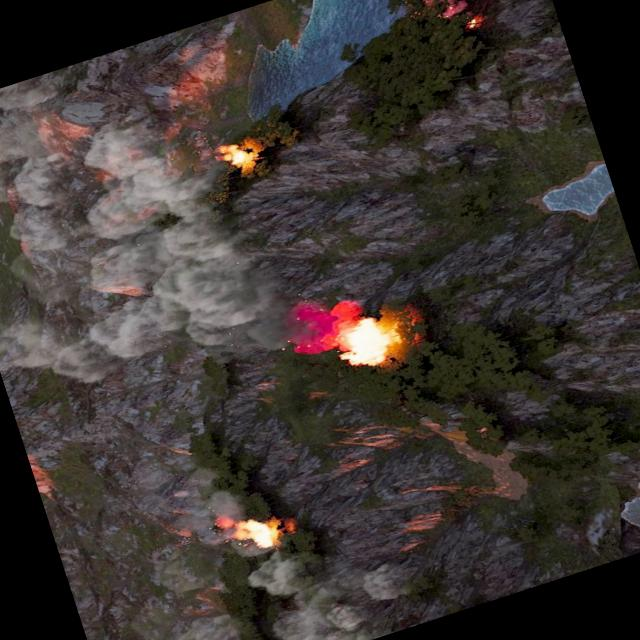fire: (328, 308, 407, 376), (227, 506, 284, 556), (217, 139, 258, 175), (416, 0, 469, 25), (464, 15, 483, 30)
smoke: (0, 0, 411, 447), (150, 517, 431, 640)
